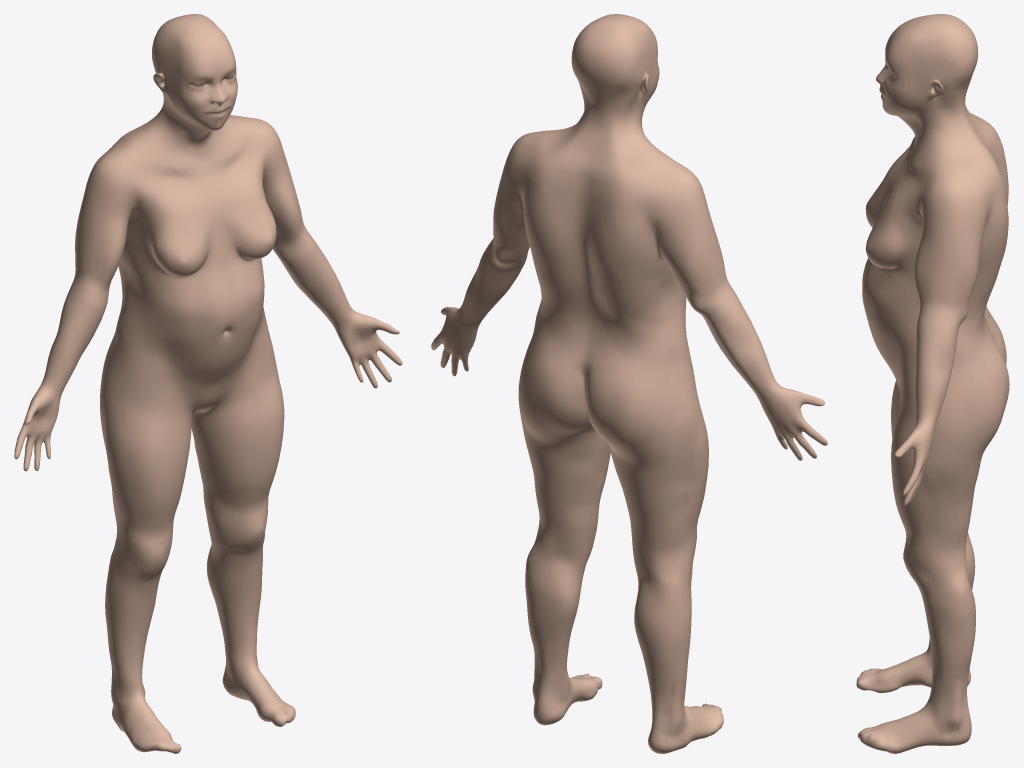
File: adult_female.surface.LOD1.glb
3 renders of one model, left to right at view 1: azimuth 30°, elevation 25°; view 2: azimuth 150°, elevation 25°; view 3: azimuth 270°, elevation 25°, orthographic. The views are drawn at different scales.
Visible parts, largest first — view 1: ADULT.FEMALE.SURFACE.SKIN; view 2: ADULT.FEMALE.SURFACE.SKIN; view 3: ADULT.FEMALE.SURFACE.SKIN.
Part boxes in pixels (box(x1,y1,x2,y2)): ADULT.FEMALE.SURFACE.SKIN: box(14, 14, 402, 753); ADULT.FEMALE.SURFACE.SKIN: box(431, 14, 827, 753); ADULT.FEMALE.SURFACE.SKIN: box(856, 14, 1009, 753).
Bounding box in the file's own units: 0.9668 × 1.67 × 0.3292.
